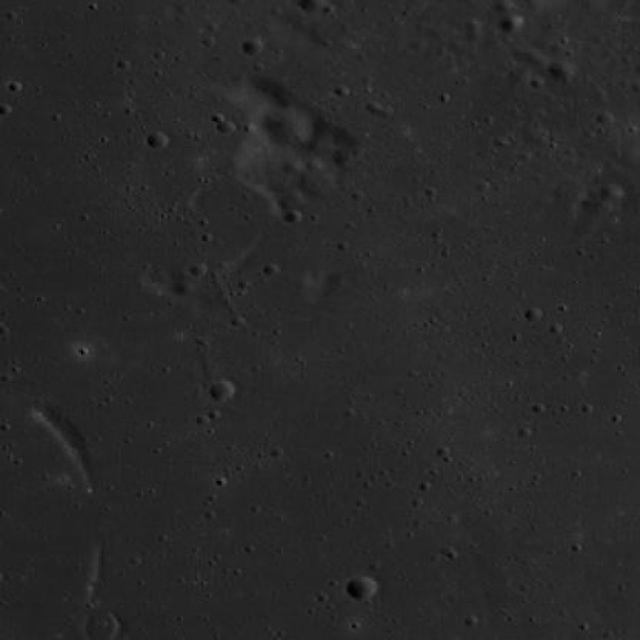crater: (188, 176, 278, 250), (259, 106, 313, 149), (299, 168, 336, 198), (550, 174, 586, 203), (576, 190, 612, 218), (84, 612, 118, 640), (346, 574, 377, 600), (303, 132, 332, 156), (546, 59, 572, 81), (598, 182, 624, 202), (208, 380, 234, 400), (496, 13, 522, 33), (526, 51, 551, 71), (330, 150, 353, 170), (240, 36, 262, 53), (173, 279, 194, 296), (146, 132, 166, 148), (216, 118, 236, 134), (282, 156, 302, 172), (406, 34, 426, 50), (489, 0, 513, 12)
